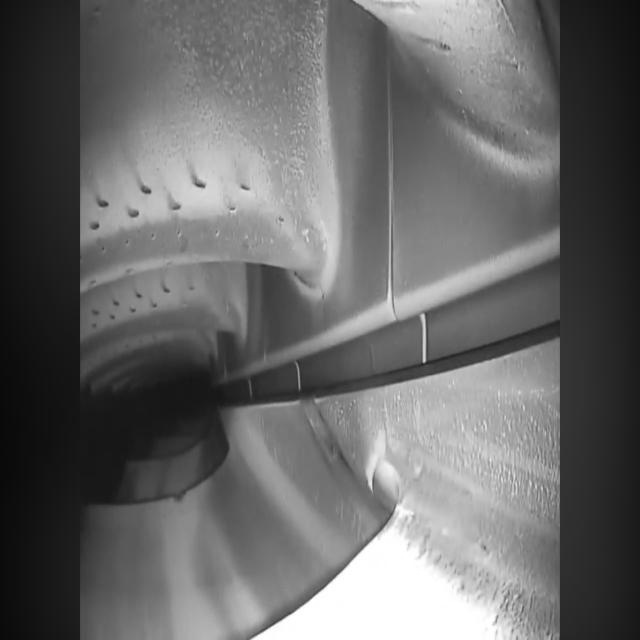turbine_blade: (81, 0, 329, 294), (357, 0, 556, 139), (79, 265, 246, 364)
